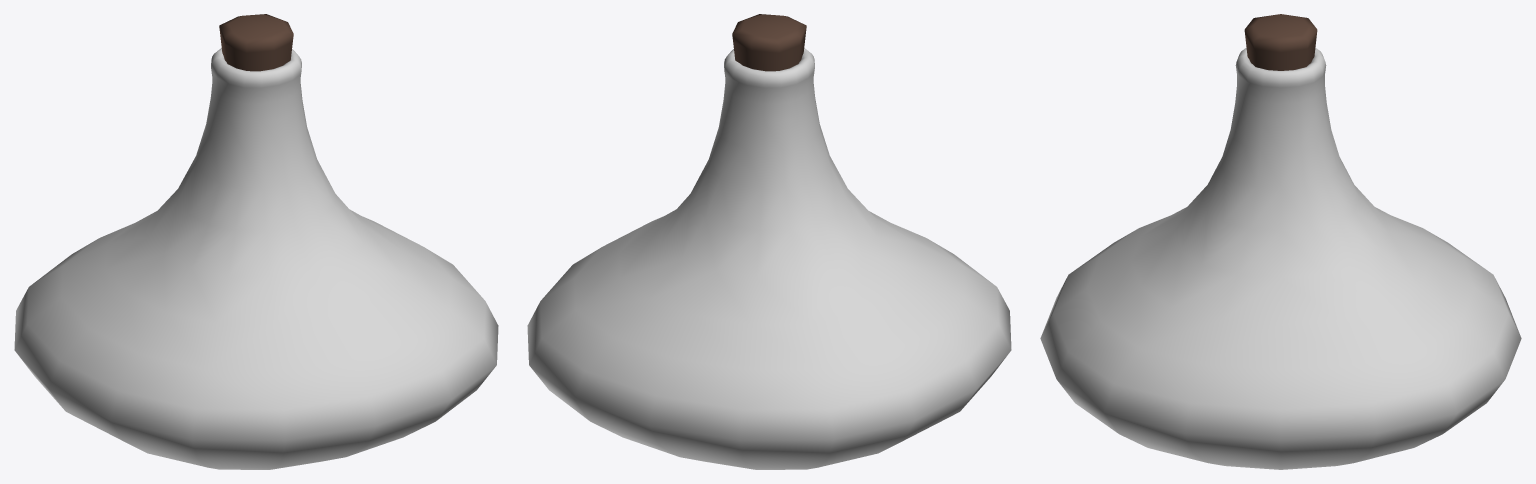
File: Potion8_Empty.glb
The picture shows the model from 3 angles, left to right: view 1: azimuth 30°, elevation 25°; view 2: azimuth 150°, elevation 25°; view 3: azimuth 270°, elevation 25°; orthographic projection.
Visible parts, largest first — view 1: Potion8_Empty_Cube.139; view 2: Potion8_Empty_Cube.139; view 3: Potion8_Empty_Cube.139.
Part boxes in pixels (<box>): Potion8_Empty_Cube.139: <box>14,14,498,469</box>; Potion8_Empty_Cube.139: <box>527,14,1011,469</box>; Potion8_Empty_Cube.139: <box>1040,14,1521,469</box>.
Size of the model in its own units: 0.7035 by 0.6822 by 0.7035.
